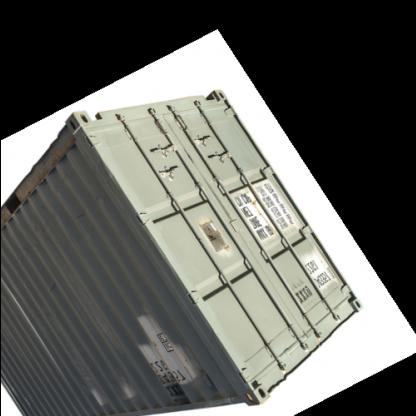Damage: (133, 315, 198, 386), (194, 221, 226, 268), (40, 274, 64, 304), (65, 208, 89, 224), (90, 384, 104, 408)
